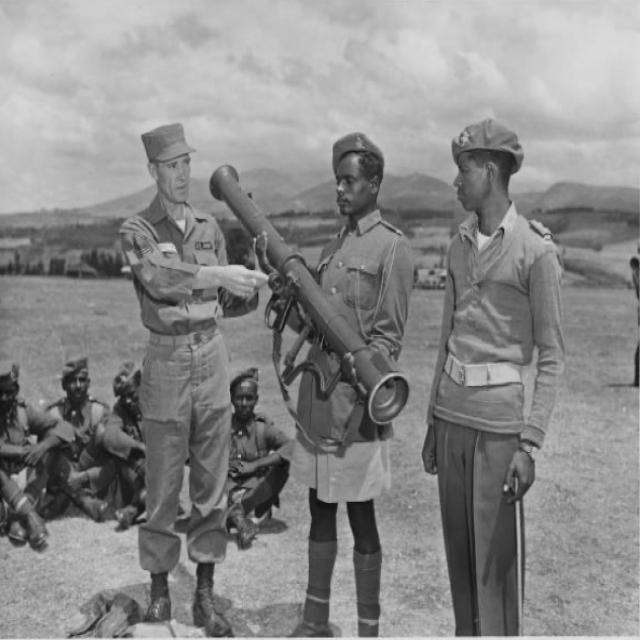bazooka: (199, 157, 417, 431)
